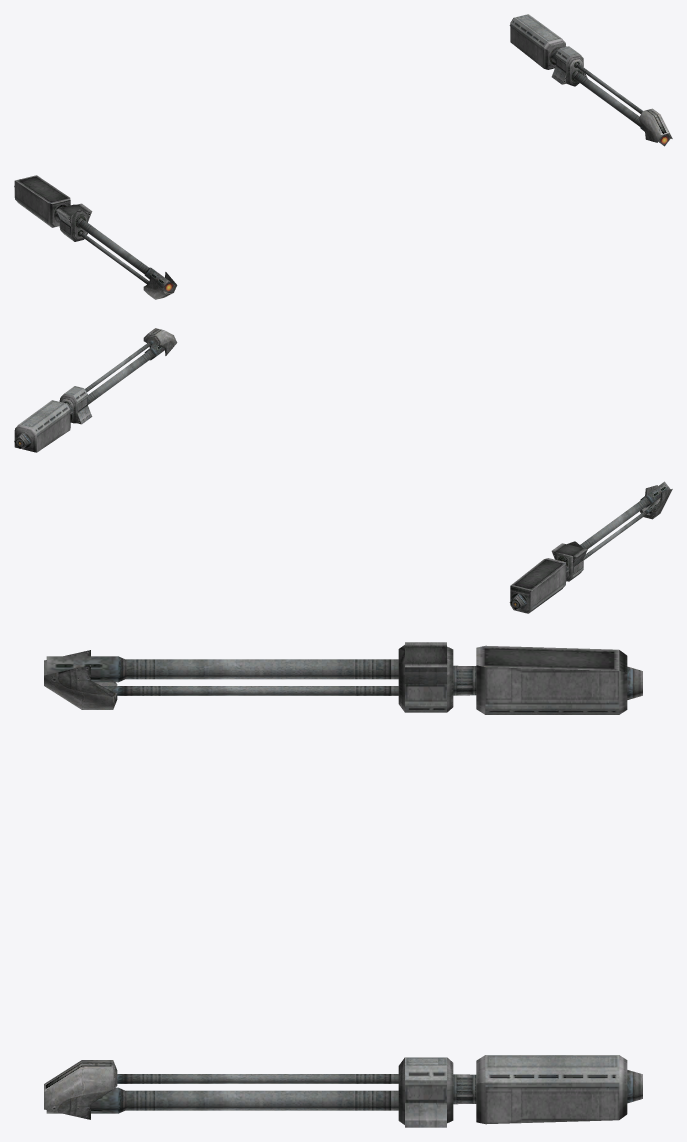
File: xwing_weapon1_neg_s06_l1.fbx
3 renders of one model, top to bottom at view 1: azimuth 30°, elevation 25°; view 2: azimuth 150°, elevation 25°; view 3: azimuth 270°, elevation 25°, orthographic. The views are drawn at different scales.
Visible parts, largest first — view 1: mesh_node; view 2: mesh_node; view 3: mesh_node.
Boxes of the visible parts, x1,y1,x2,y2 form: mesh_node: (14, 14, 672, 299); mesh_node: (14, 328, 672, 613); mesh_node: (44, 642, 642, 1127).
Size of the model in its own units: 12.97 by 1.55 by 6.45.
